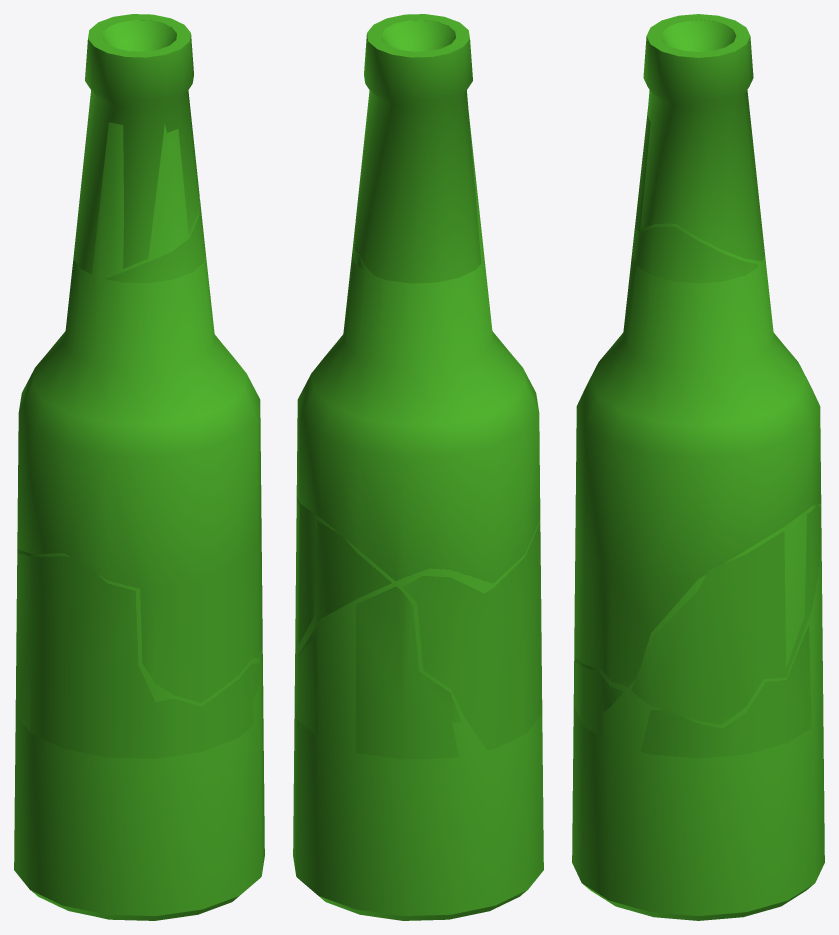
The model's file is Bottle.fbx.
The picture shows the model from 3 angles, left to right: view 1: azimuth 30°, elevation 25°; view 2: azimuth 150°, elevation 25°; view 3: azimuth 270°, elevation 25°; orthographic projection.
Parts seen in each view (by area): view 1: Drink_01, Circle_003, Circle_007, Circle; view 2: Drink_01, Circle_003, Circle, Circle_007, Circle_008, Circle_004; view 3: Drink_01, Circle_003, Circle, Circle_004, Circle_008, Circle_007.
Part boxes in pixels (x1=…): Drink_01: x1=14, y1=20, x2=264, y2=916; Circle_003: x1=17, y1=200, x2=261, y2=702; Circle_007: x1=15, y1=553, x2=260, y2=920; Circle: x1=73, y1=14, x2=199, y2=274; Drink_01: x1=293, y1=20, x2=543, y2=916; Circle_003: x1=296, y1=225, x2=540, y2=583; Circle: x1=355, y1=14, x2=481, y2=283; Circle_007: x1=402, y1=522, x2=542, y2=893; Circle_008: x1=294, y1=586, x2=521, y2=920; Circle_004: x1=295, y1=500, x2=391, y2=653; Drink_01: x1=572, y1=20, x2=824, y2=916; Circle_003: x1=574, y1=226, x2=821, y2=687; Circle: x1=640, y1=14, x2=764, y2=260; Circle_004: x1=631, y1=504, x2=821, y2=724; Circle_008: x1=603, y1=561, x2=823, y2=920; Circle_007: x1=573, y1=661, x2=624, y2=899.
Size of what is drawn, in the model's own units: 400 by 1459 by 400.
